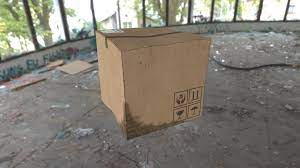box: (95, 29, 210, 141)
normal_hole: (122, 103, 174, 141)
